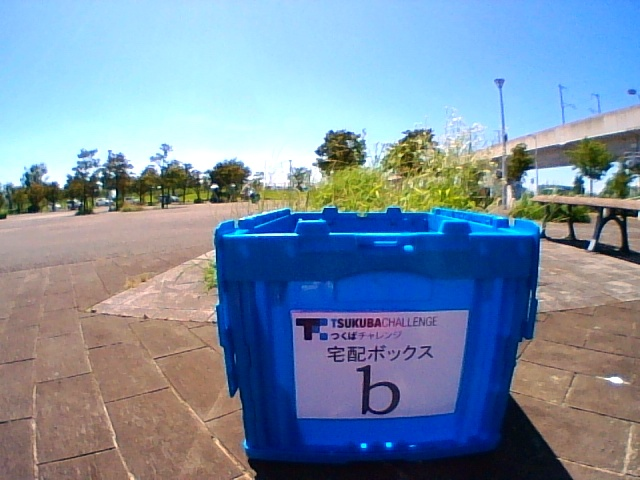blue_box: (231, 214, 501, 451)
tag_b: (295, 314, 453, 415)
